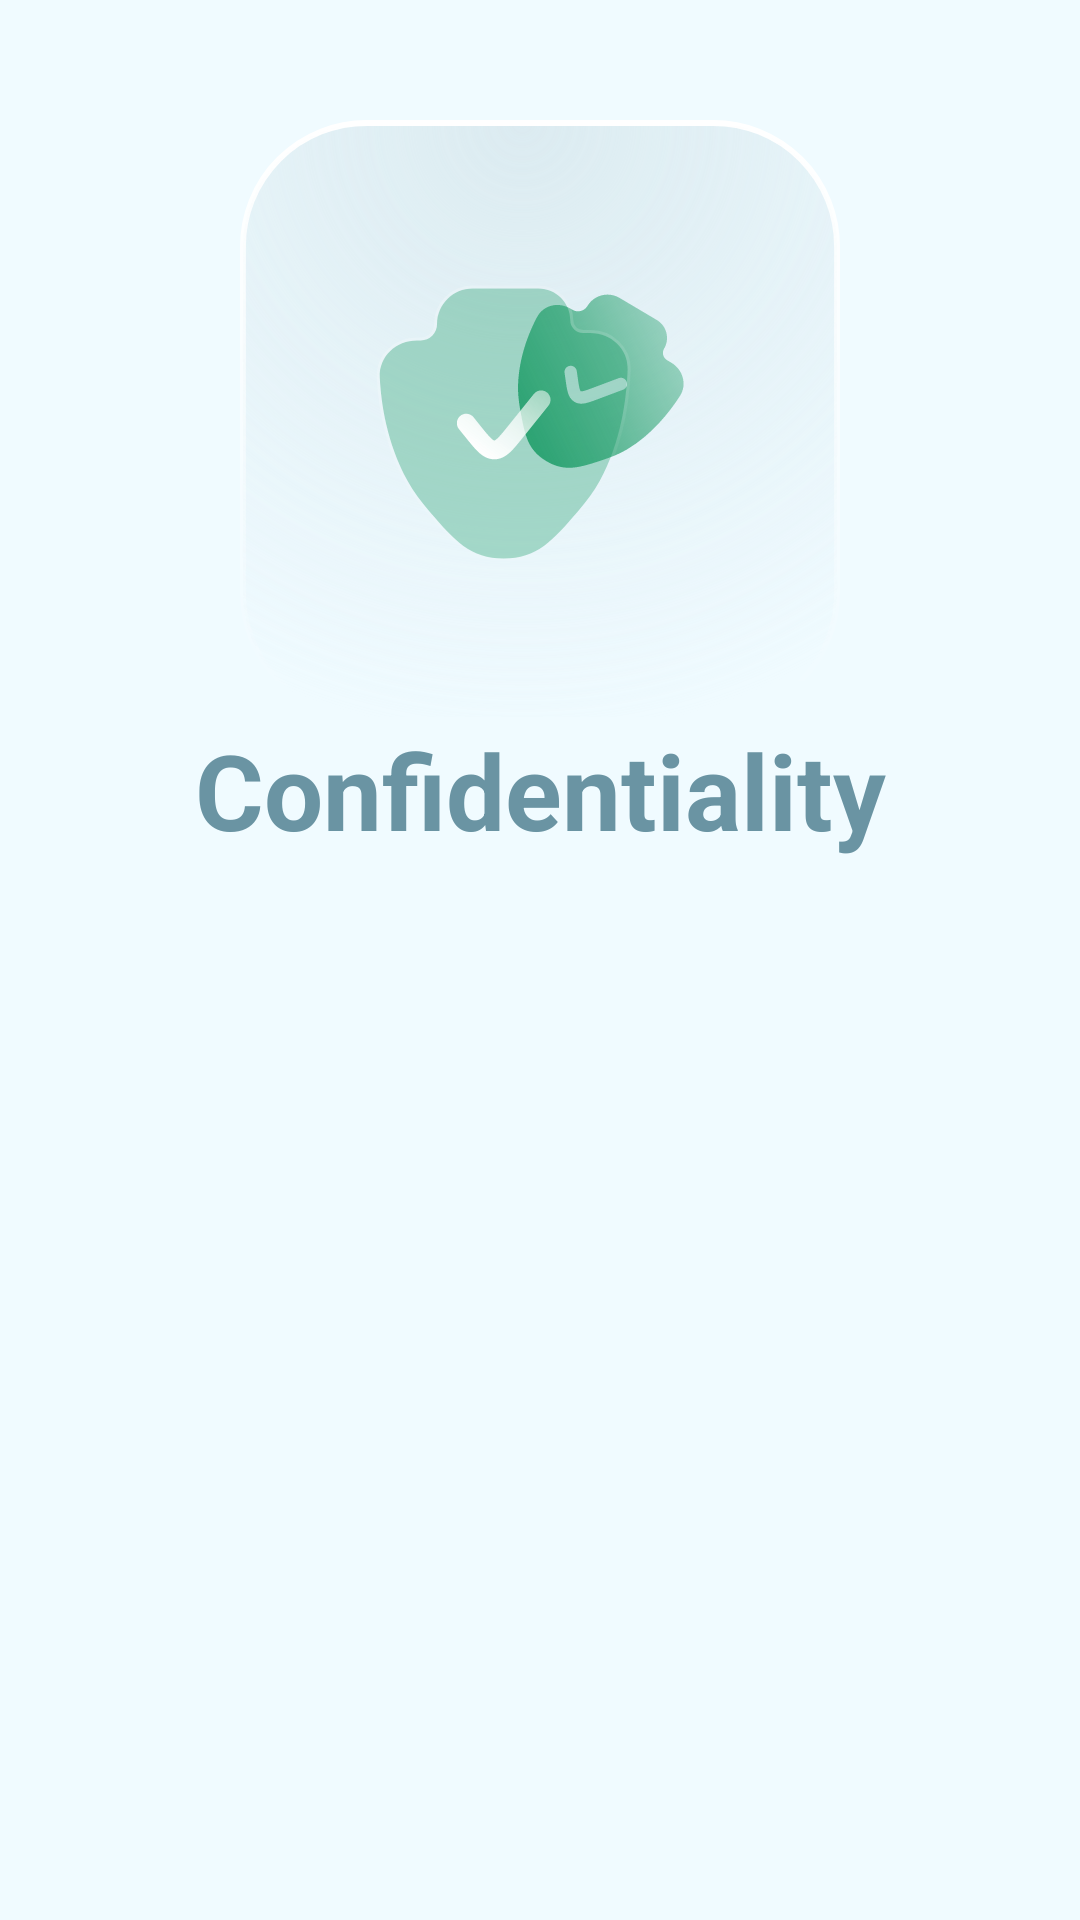

Where icons sit on this 1080×1920 app screen, as region(x1, y1, x2, y2):
checkmark: region(380, 288, 684, 559)
